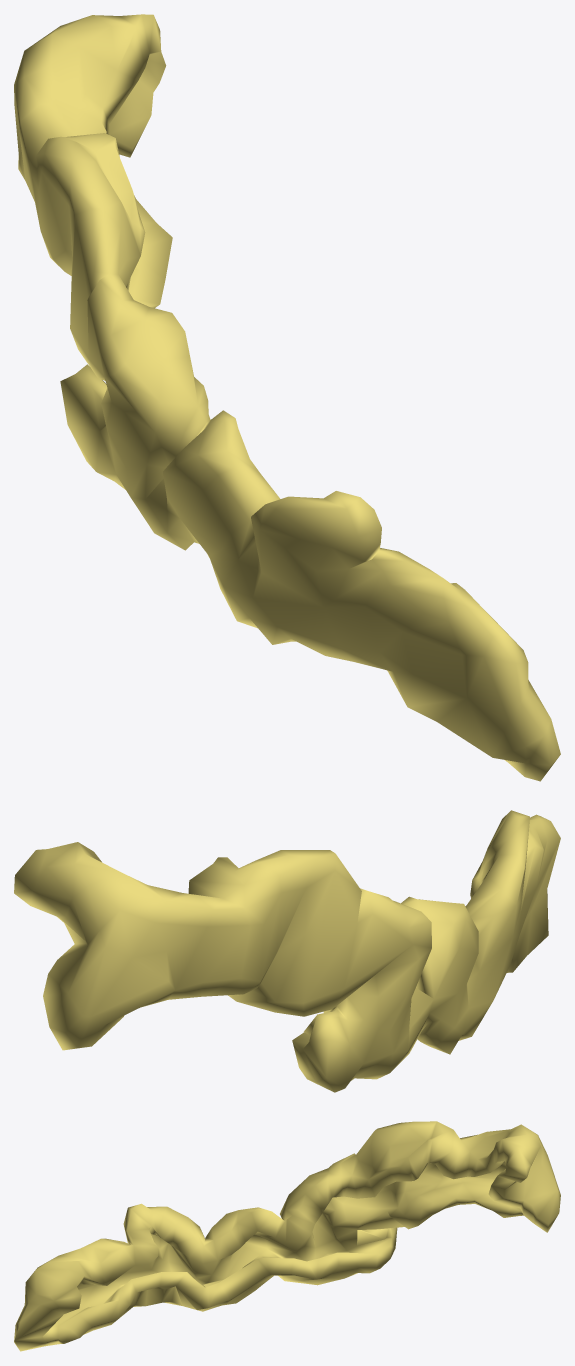
The model's file is middle-temporal-gyrus-r.glb.
The picture shows the model from 3 angles, top to bottom: view 1: azimuth 30°, elevation 25°; view 2: azimuth 150°, elevation 25°; view 3: azimuth 270°, elevation 25°; orthographic projection. The views are drawn at different scales.
Visible parts, largest first — view 1: Middle temporal gyrus.r; view 2: Middle temporal gyrus.r; view 3: Middle temporal gyrus.r.
Boxes of the visible parts, x1,y1,x2,y2 form: Middle temporal gyrus.r: (14,14,560,781); Middle temporal gyrus.r: (14,810,560,1092); Middle temporal gyrus.r: (14,1121,560,1351).
Bounding box in the file's own units: 0.0281 × 0.0453 × 0.1004.
